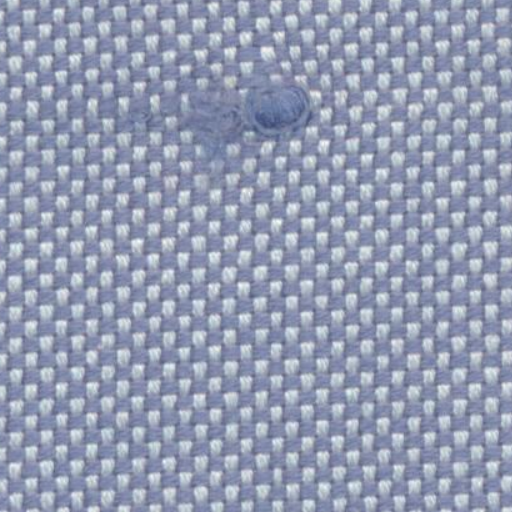MianQiu: (142, 54, 344, 174)
